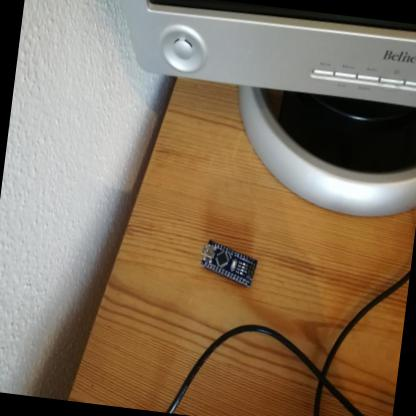Arduino_Nano: (196, 237, 262, 292)
